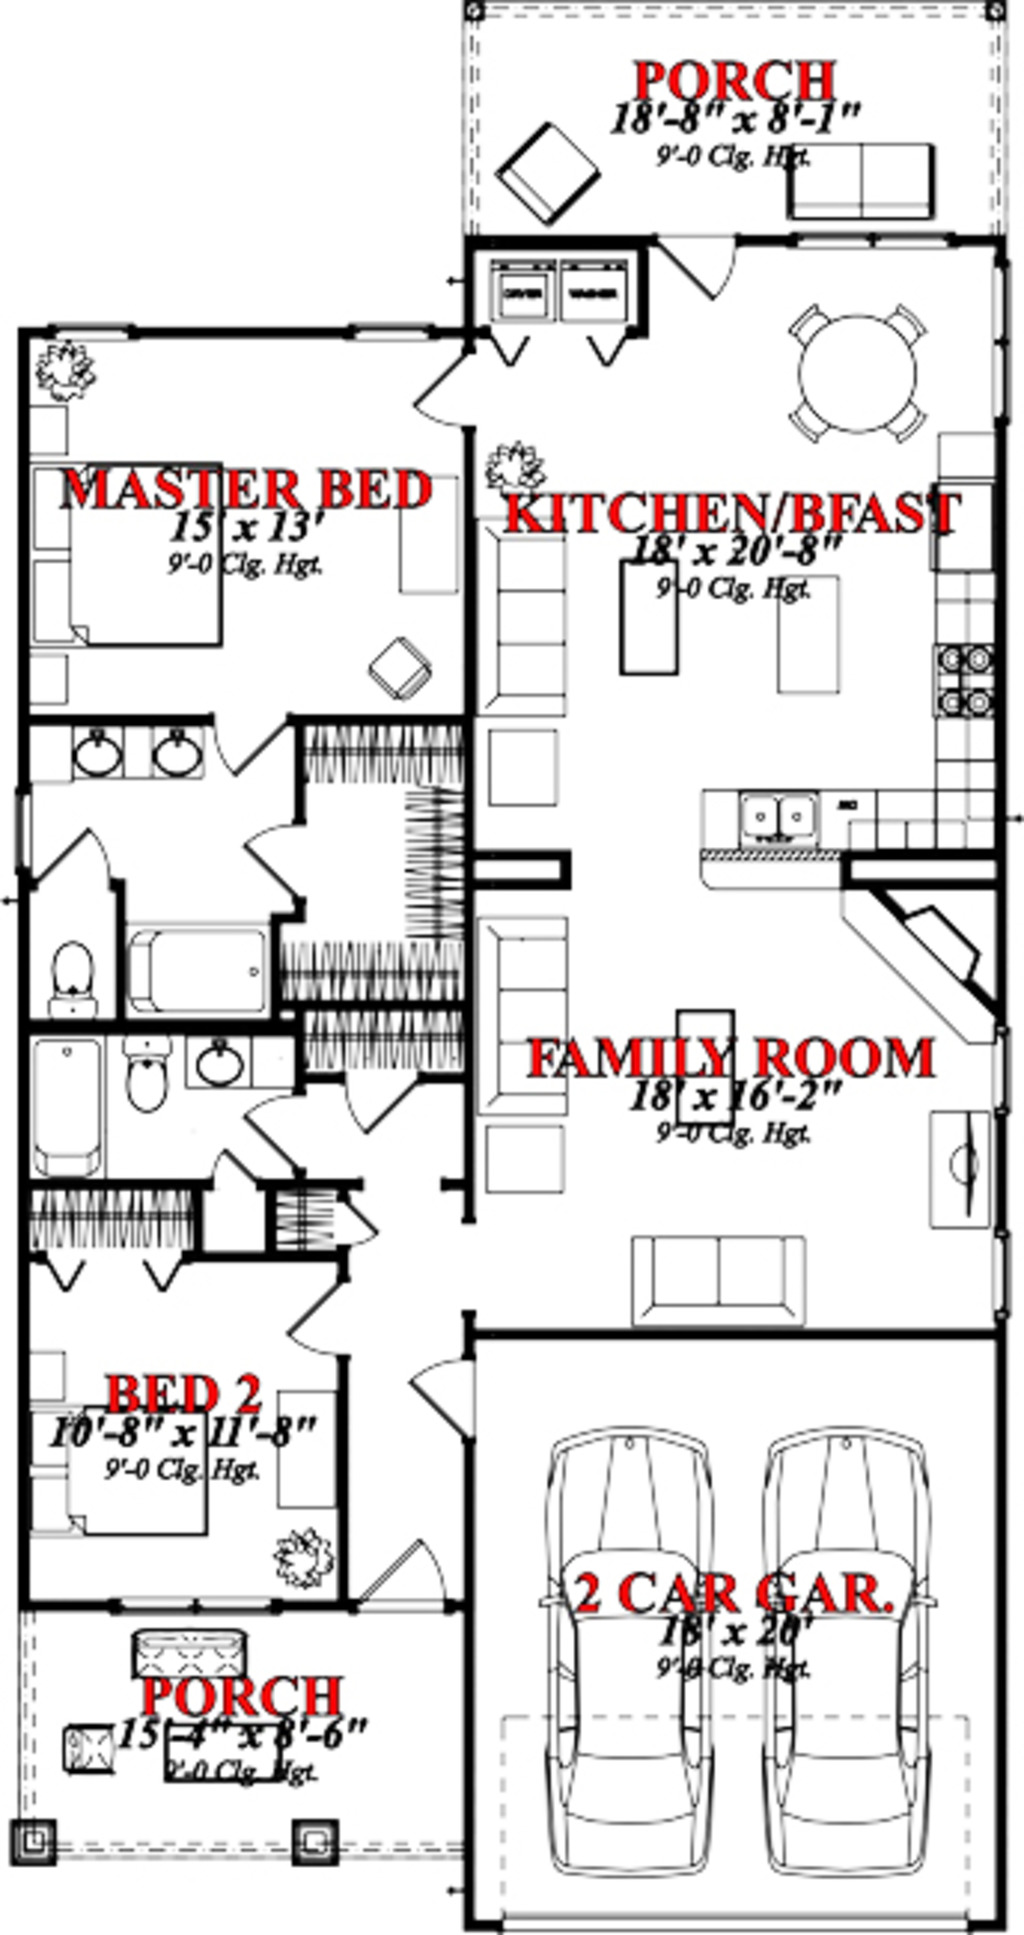bed: (19, 465, 256, 651), (13, 1403, 237, 1537)
door: (337, 1522, 477, 1612), (401, 324, 498, 449), (325, 1046, 428, 1140), (268, 1267, 358, 1373), (241, 815, 332, 918), (410, 1346, 492, 1449), (210, 703, 292, 793), (22, 827, 116, 897), (250, 1092, 319, 1170)
large_sink: (119, 1024, 198, 1133), (31, 930, 110, 1037)
large_sofa: (471, 906, 595, 1127), (486, 506, 577, 721), (616, 1238, 837, 1321)
round_table: (780, 273, 940, 461)
small_sink: (44, 718, 207, 782), (189, 1037, 301, 1081)
tub: (15, 1026, 113, 1191)
twin_sink: (677, 752, 883, 866)
window: (110, 1588, 285, 1627), (44, 317, 172, 358), (340, 308, 434, 358)
